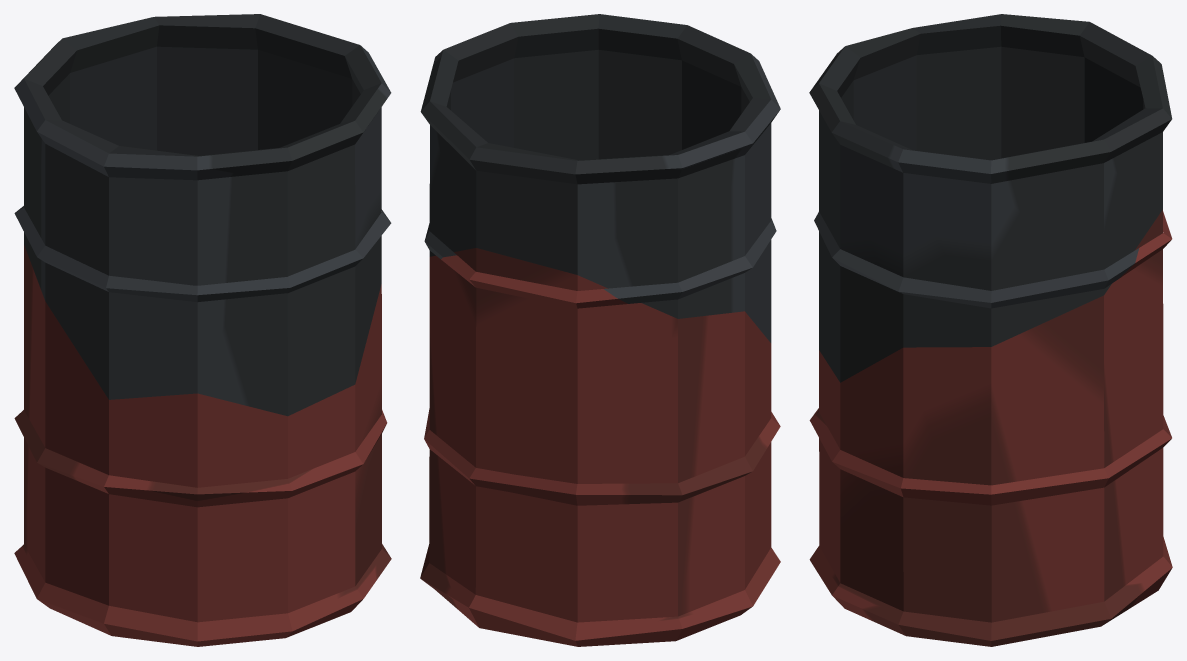
File: SM_Prop_Barrel_03.glb
3 views of the same model, side by side, from view 1: azimuth 30°, elevation 25°; view 2: azimuth 150°, elevation 25°; view 3: azimuth 270°, elevation 25° (orthographic).
Visible parts, largest first — view 1: SM_Prop_Barrel_03; view 2: SM_Prop_Barrel_03; view 3: SM_Prop_Barrel_03.
Part boxes in pixels (bbox=[...]): SM_Prop_Barrel_03: bbox=[14, 14, 391, 646]; SM_Prop_Barrel_03: bbox=[420, 14, 780, 646]; SM_Prop_Barrel_03: bbox=[809, 14, 1172, 646].
Size of the model in its own units: 0.7261 by 1.05 by 0.7052.
1 material, 1 textured.
